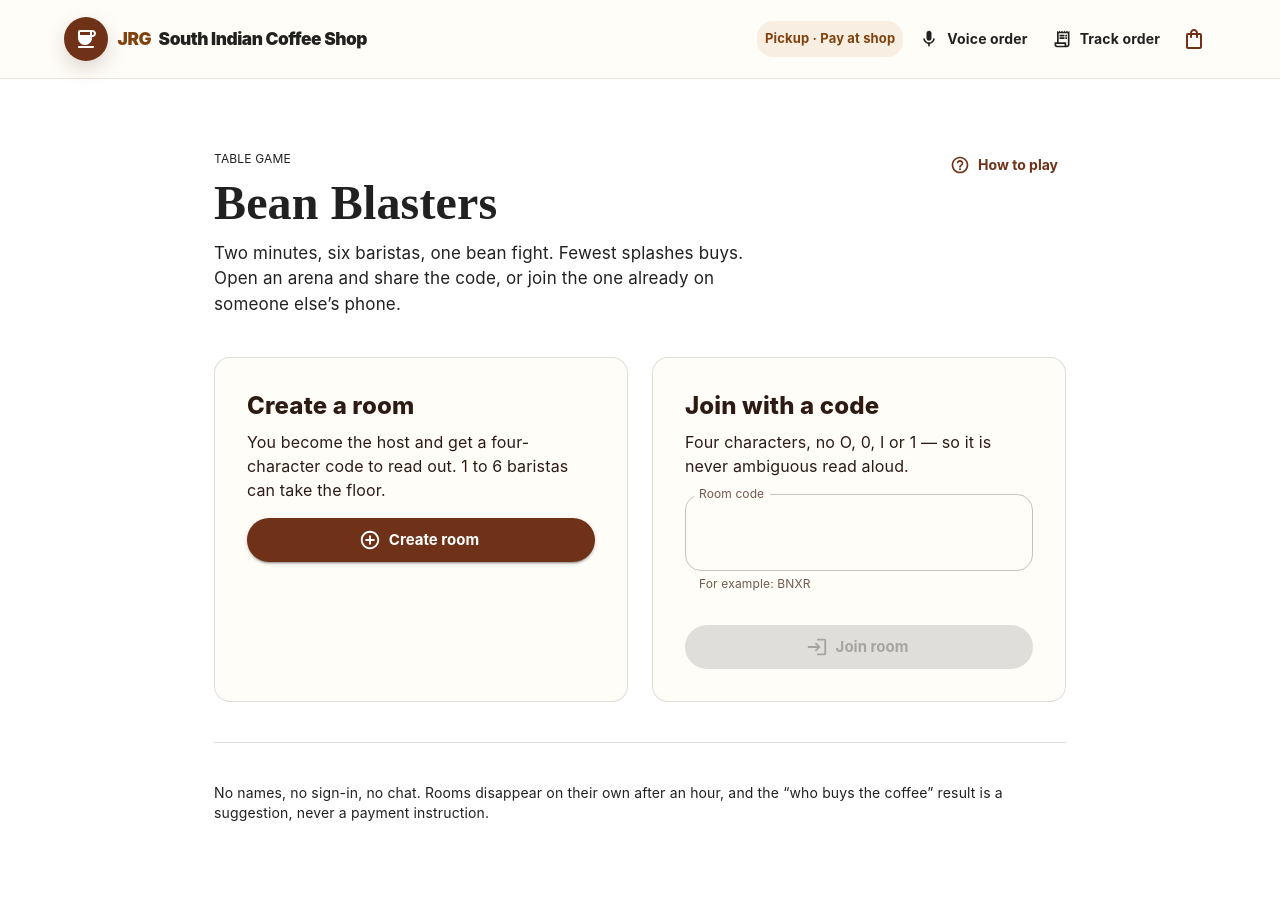
it: Bean Blasters UI › join errors › renders the ROOM_NOT_FOUND message
Type "BNXR" into the field labelled "Room code" at (859, 532), box [685,494,1033,570]
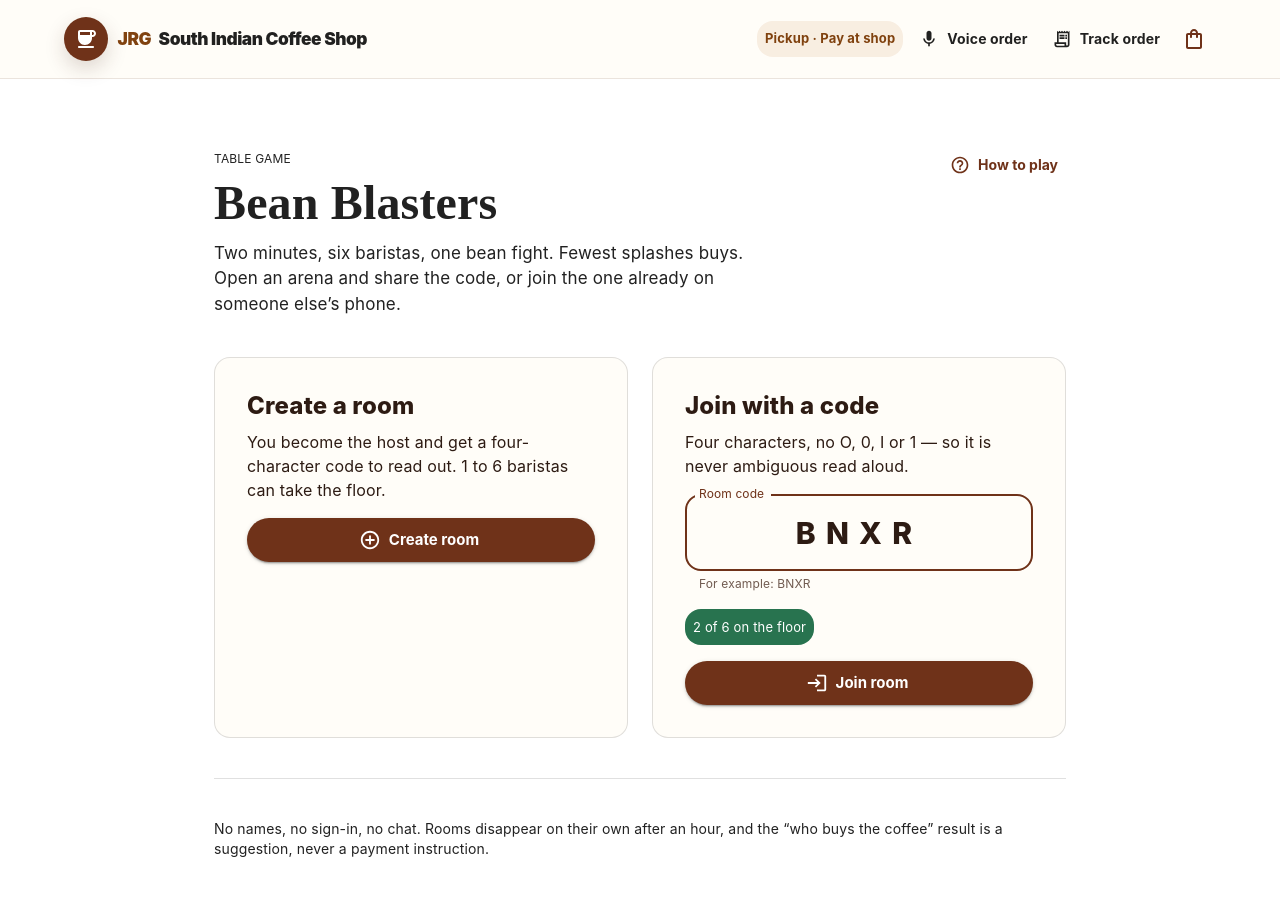
Click the button "Join room" at (859, 684), box [685,662,1033,706]
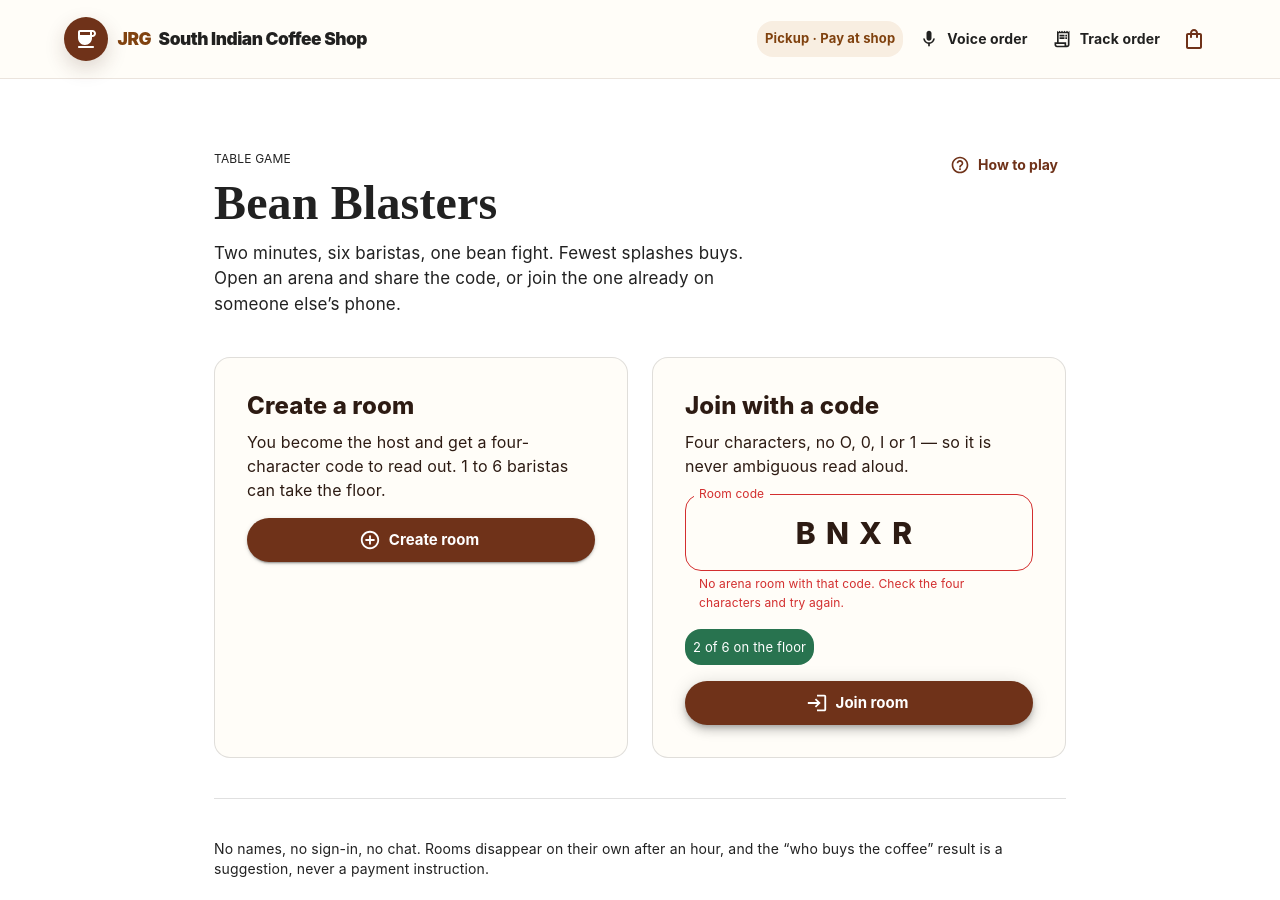
Expected: the text "No arena room with that code" is shown, [699,576,964,610]
